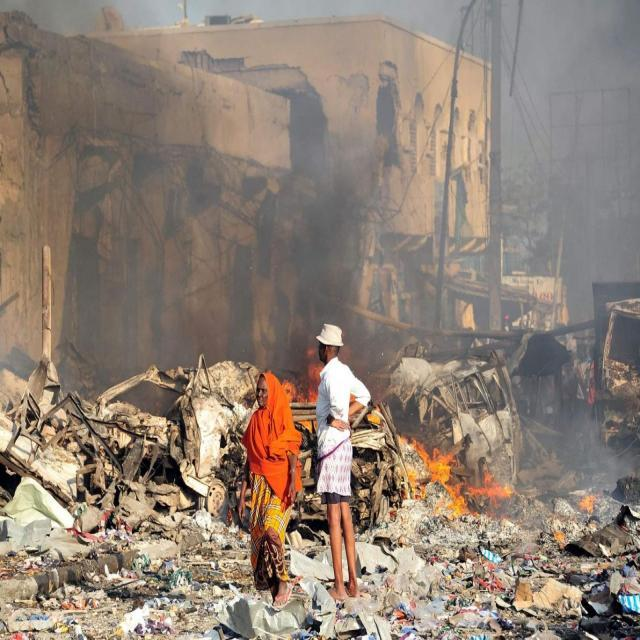Fire: (400, 436, 508, 520), (578, 491, 598, 516)
Smoke: (517, 8, 635, 474), (84, 148, 376, 320)
